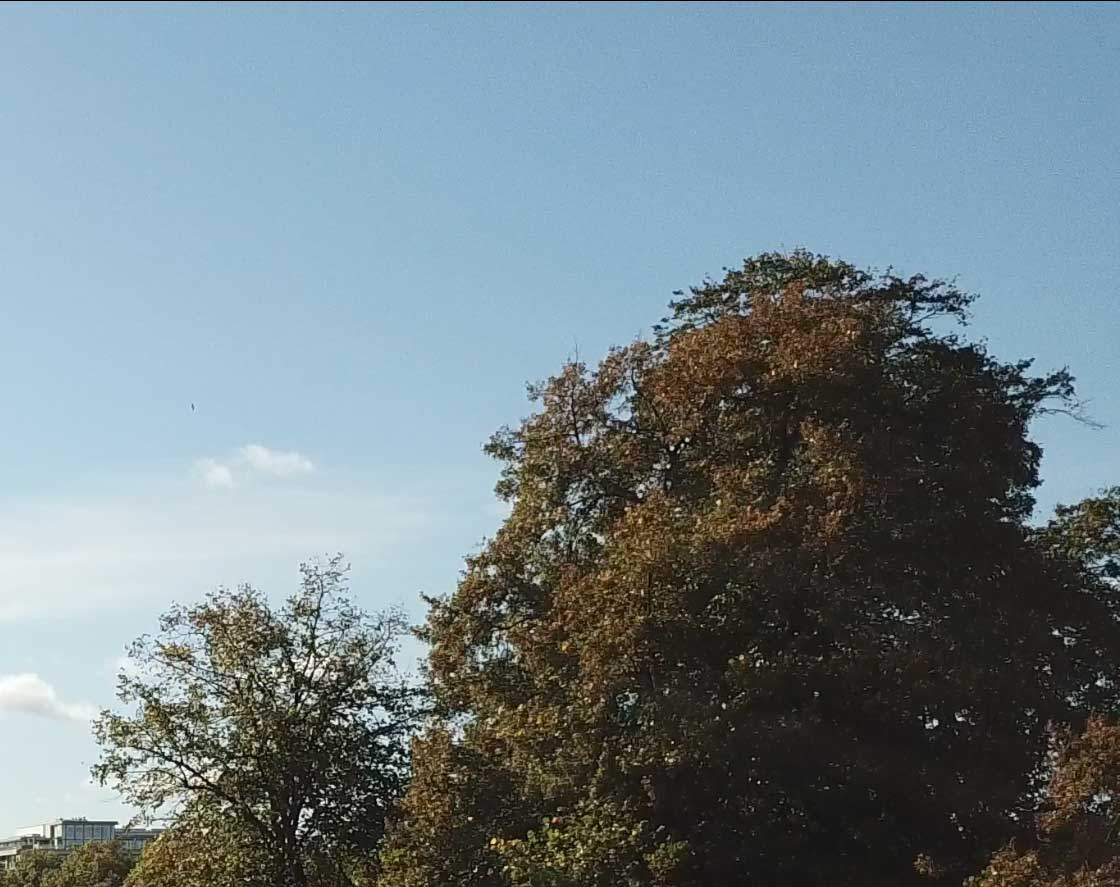tree: (385, 226, 1120, 883), (74, 539, 443, 887)
